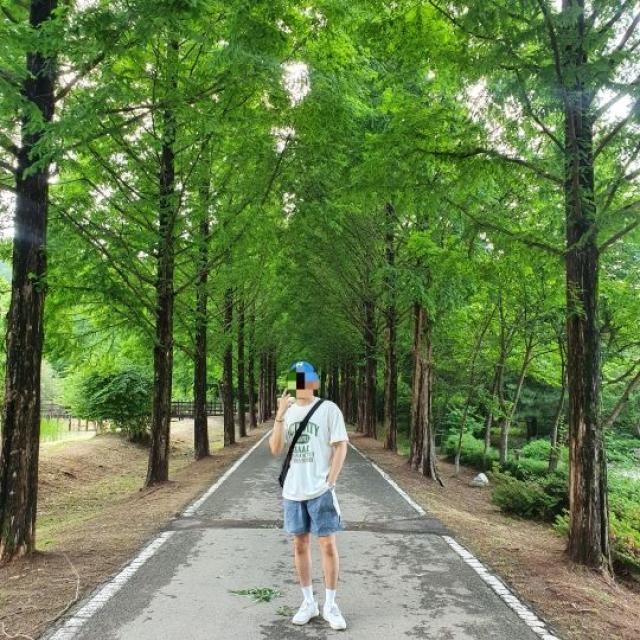shortpants: (284, 491, 338, 540)
shortsleeve: (277, 398, 350, 499)
